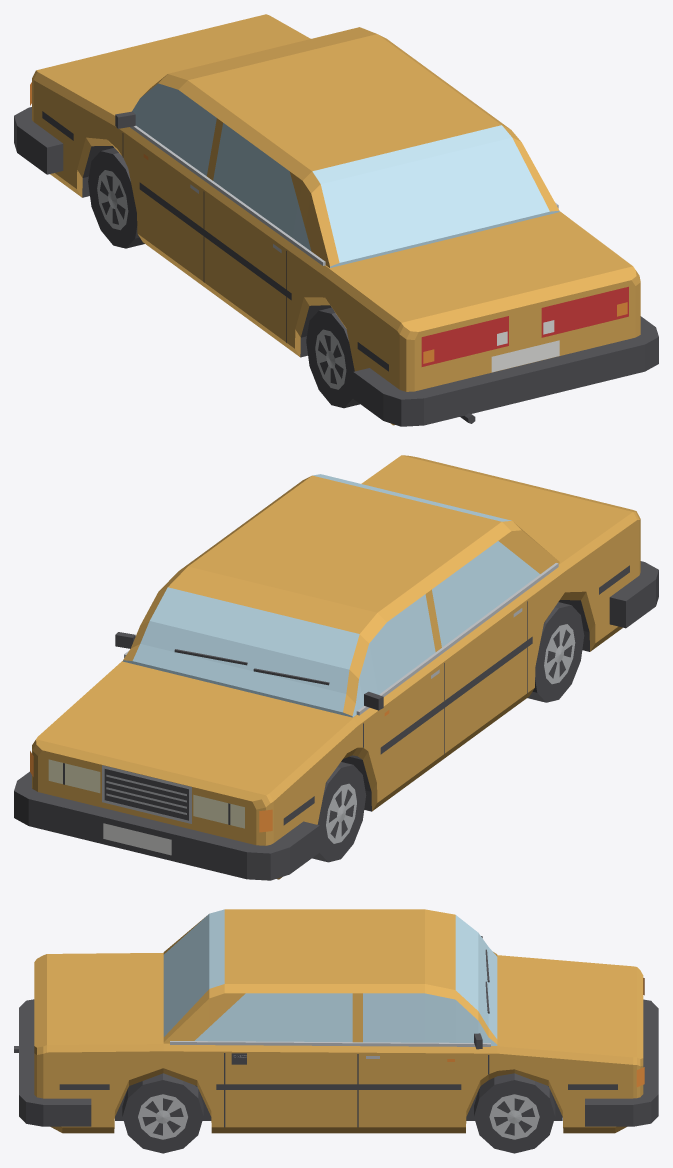
The model's file is volvo_740.glb.
The picture shows the model from 3 angles, top to bottom: view 1: azimuth 30°, elevation 25°; view 2: azimuth 150°, elevation 25°; view 3: azimuth 270°, elevation 25°; orthographic projection. The views are drawn at different scales.
Visible parts, largest first — view 1: body, door_FL, wheel_FL, wheel_RL; view 2: body, door_FL, wheel_RL, wheel_FL; view 3: body, door_FR, wheel_FR, wheel_RR.
Part boxes in pixels (x1=…): body: x1=14, y1=14, x2=658, y2=426; door_FL: x1=123, y1=83, x2=219, y2=290; wheel_FL: x1=88, y1=148, x2=144, y2=248; wheel_RL: x1=306, y1=307, x2=359, y2=408; body: x1=14, y1=455, x2=658, y2=880; door_FL: x1=356, y1=592, x2=444, y2=811; wheel_RL: x1=527, y1=602, x2=584, y2=702; wheel_FL: x1=312, y1=762, x2=366, y2=862; body: x1=14, y1=909, x2=658, y2=1133; door_FR: x1=358, y1=993, x2=488, y2=1133; wheel_FR: x1=474, y1=1073, x2=555, y2=1153; wheel_RR: x1=122, y1=1073, x2=203, y2=1153.
Size of the model in its own units: 2 by 1.41 by 5.08.
